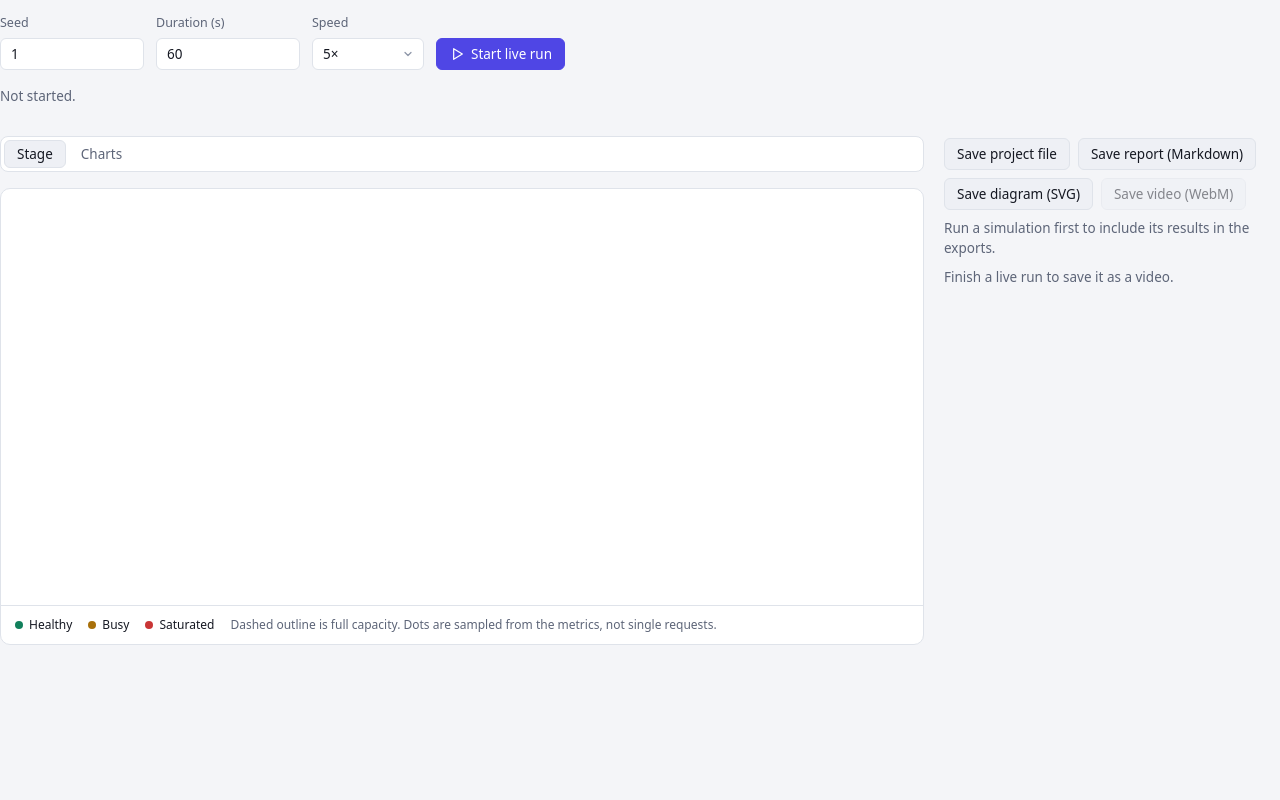
LivePanel › shows the final report when the run finishes and allows another run
Click the button "Start live run": (500, 54) x1=436 y1=38 x2=565 y2=70
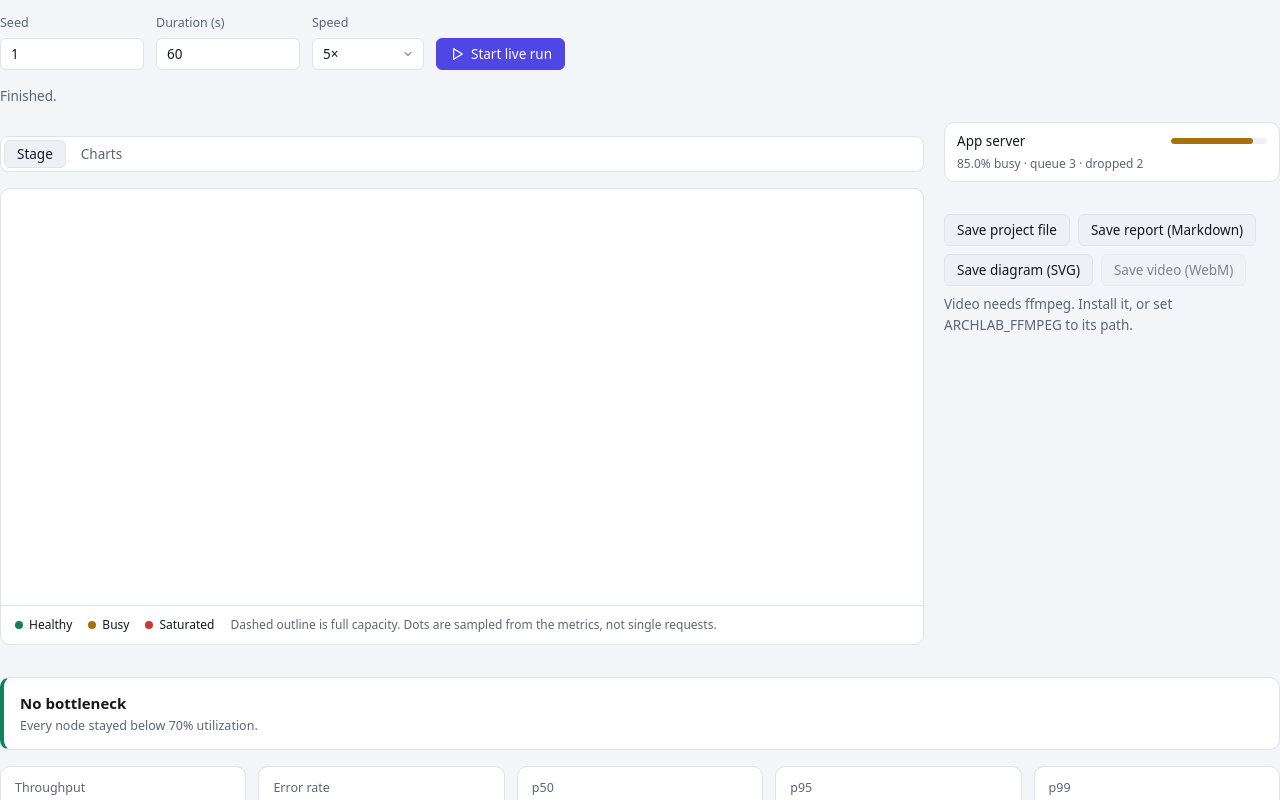
Result: the text "Finished." is shown at x1=0 y1=87 x2=57 y2=105
